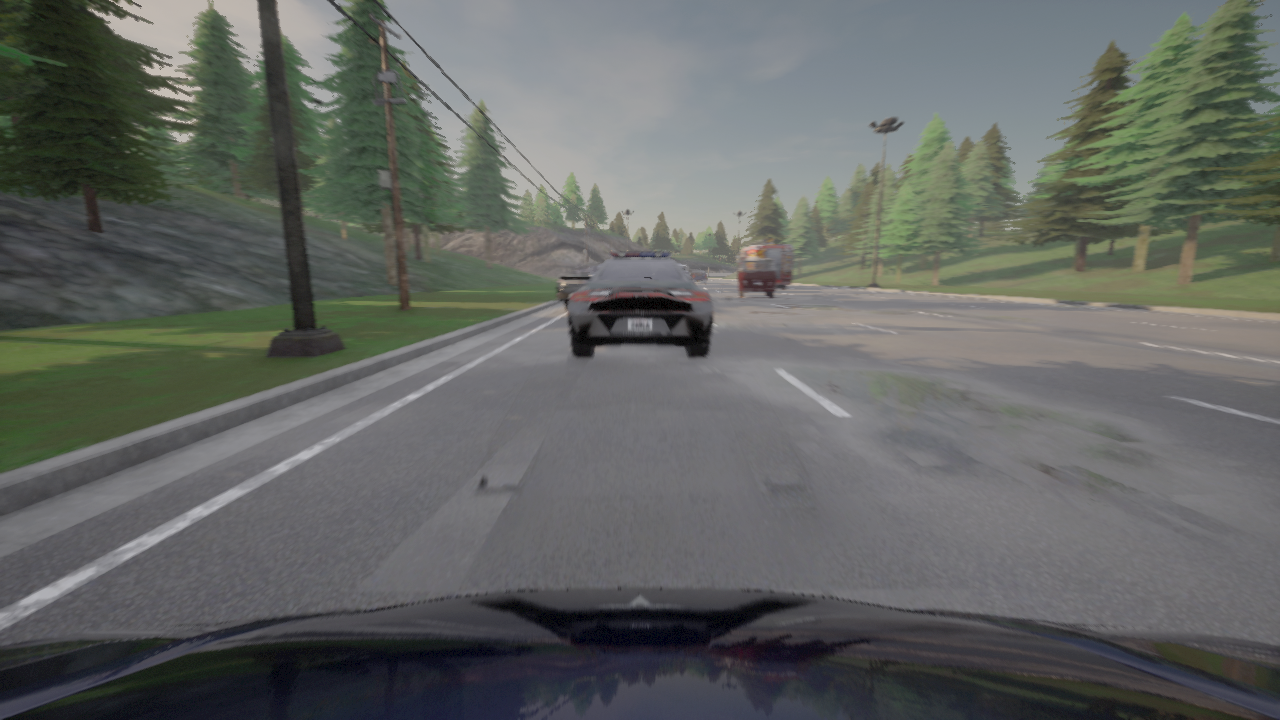cyclist: (0, 588, 1279, 719), (567, 252, 713, 357), (736, 239, 792, 288), (555, 264, 602, 310), (738, 258, 775, 297), (690, 270, 706, 283), (678, 264, 688, 274)
